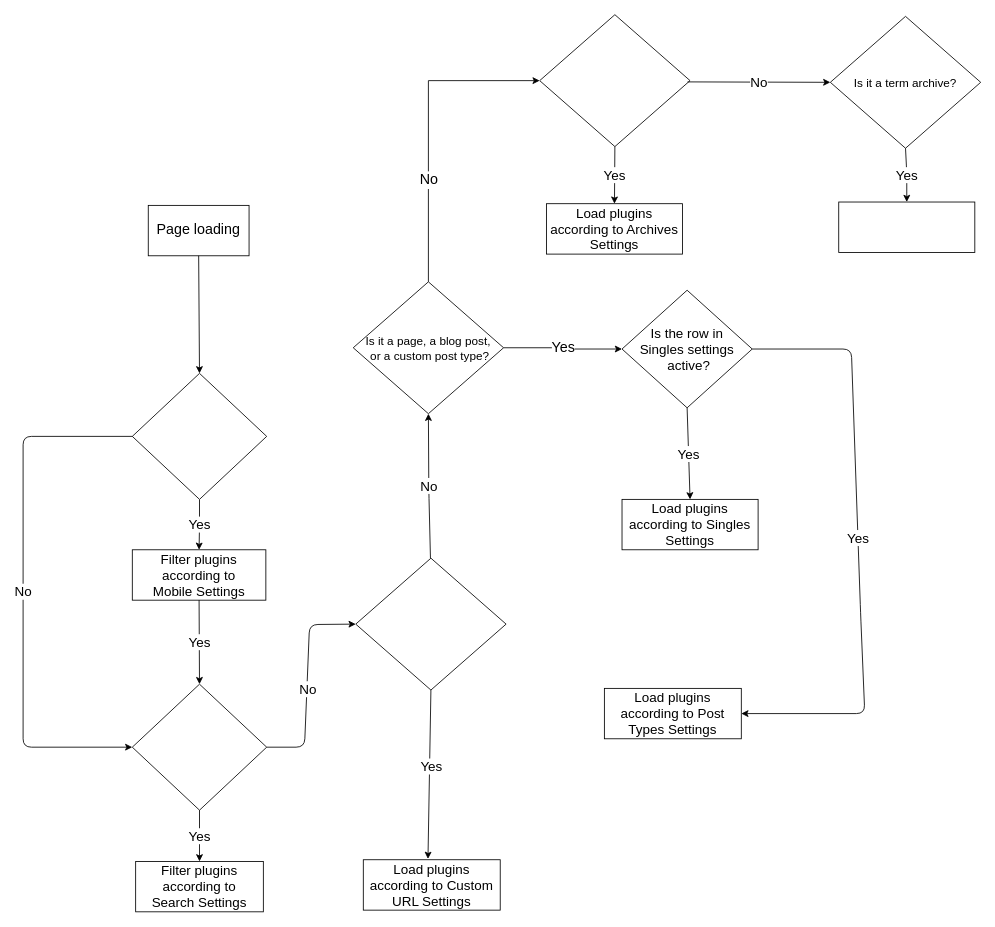
This 995x927 diagram has some shape labels left out. Each missing label, with the centre of its shape:
"Is a search results page" goes at (199,746).
"Is it a custom URL" goes at (430,623).
"Is it a mobile device?" goes at (199,436).
"Is it an archive page?" goes at (614,80).
"Load plugins according to Terms Settings" goes at (906,226).
